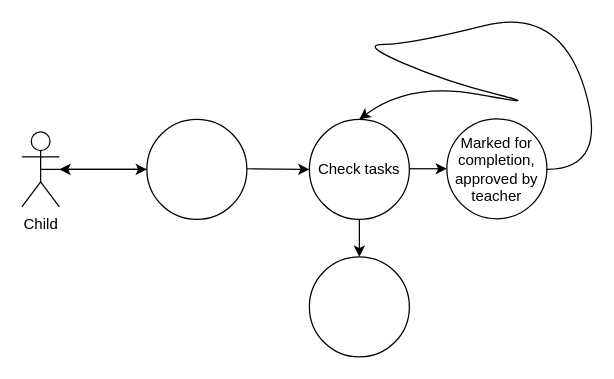
Image size: 614x379. Some labels were removed from this diagram. Here are the shapes that lost their labels. From the top down, the centre of each, then its label:
the point at 196,168: Log into website
the point at 358,306: Need help, ask chatbot
